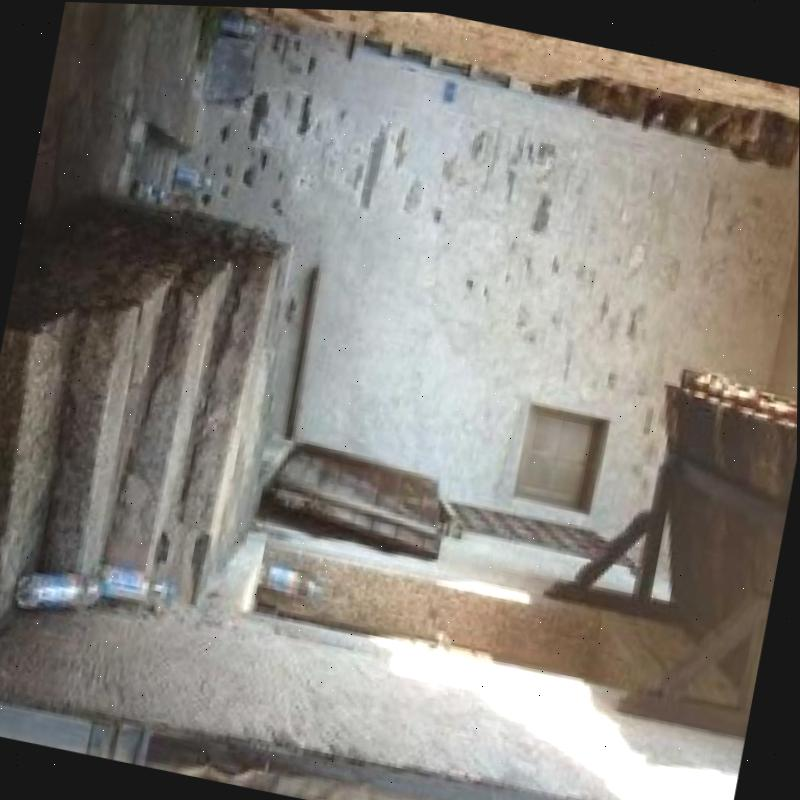botella: (7, 556, 109, 629), (114, 147, 218, 204), (91, 563, 180, 610), (258, 558, 328, 600)
